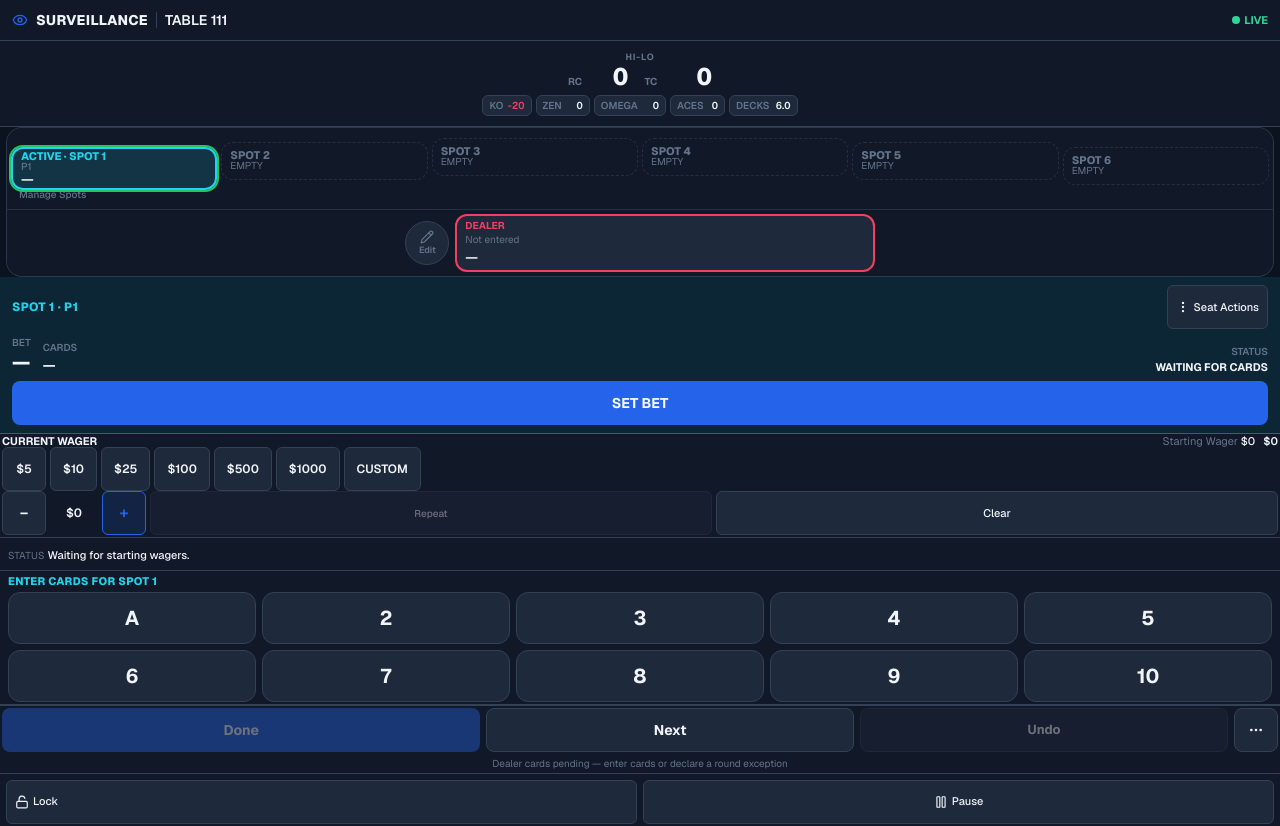
Test: LiveScreen — wager entry is discoverable from the active seat's own panel, never a hidden tap (AGENTS.md operational UI rebuild §8/§9) › the panel reads SET BET with no wager yet; once a bet is placed it shows the formatted amount directly, no extra tap required to see it
The width and height of the screenshot is (1280, 826).
Click the button with test id "change-bet-button": [640, 403] box [12, 381, 1268, 425]
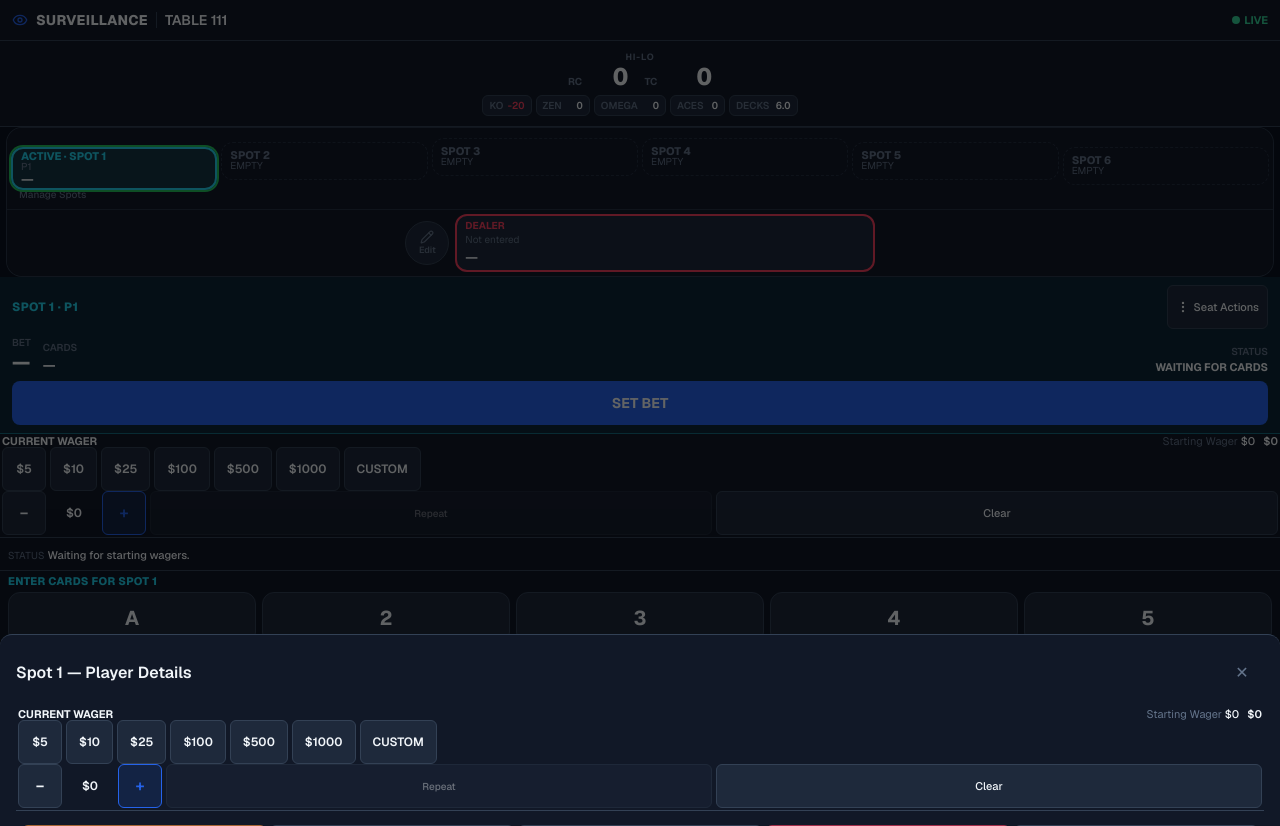
Click the button "$25": [142, 742] box [117, 720, 166, 764]
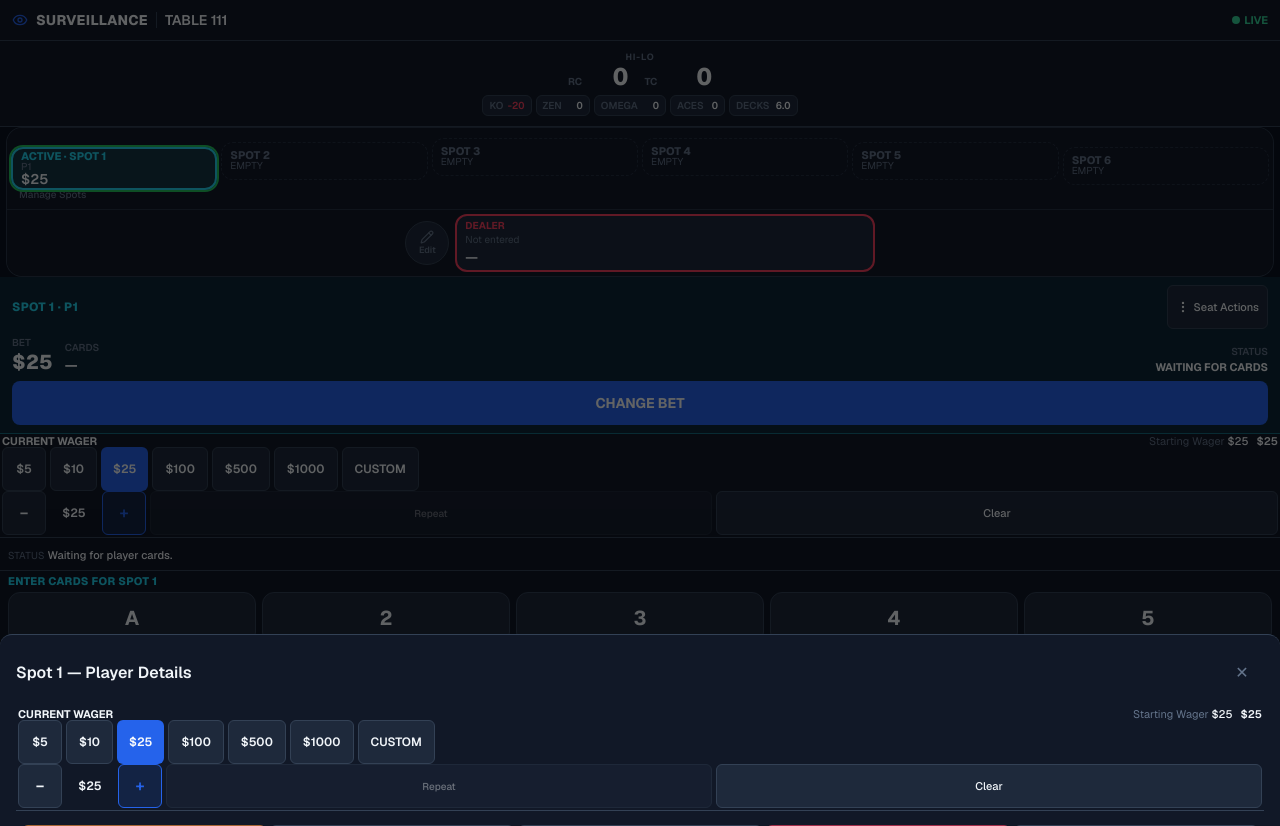
Expected: the button with test id "change-bet-button" reads "CHANGE BET", [12, 381, 1268, 425]
Expected: the text "$25" in the row of "WAITING FOR CARDS" is shown, [12, 349, 53, 375]
